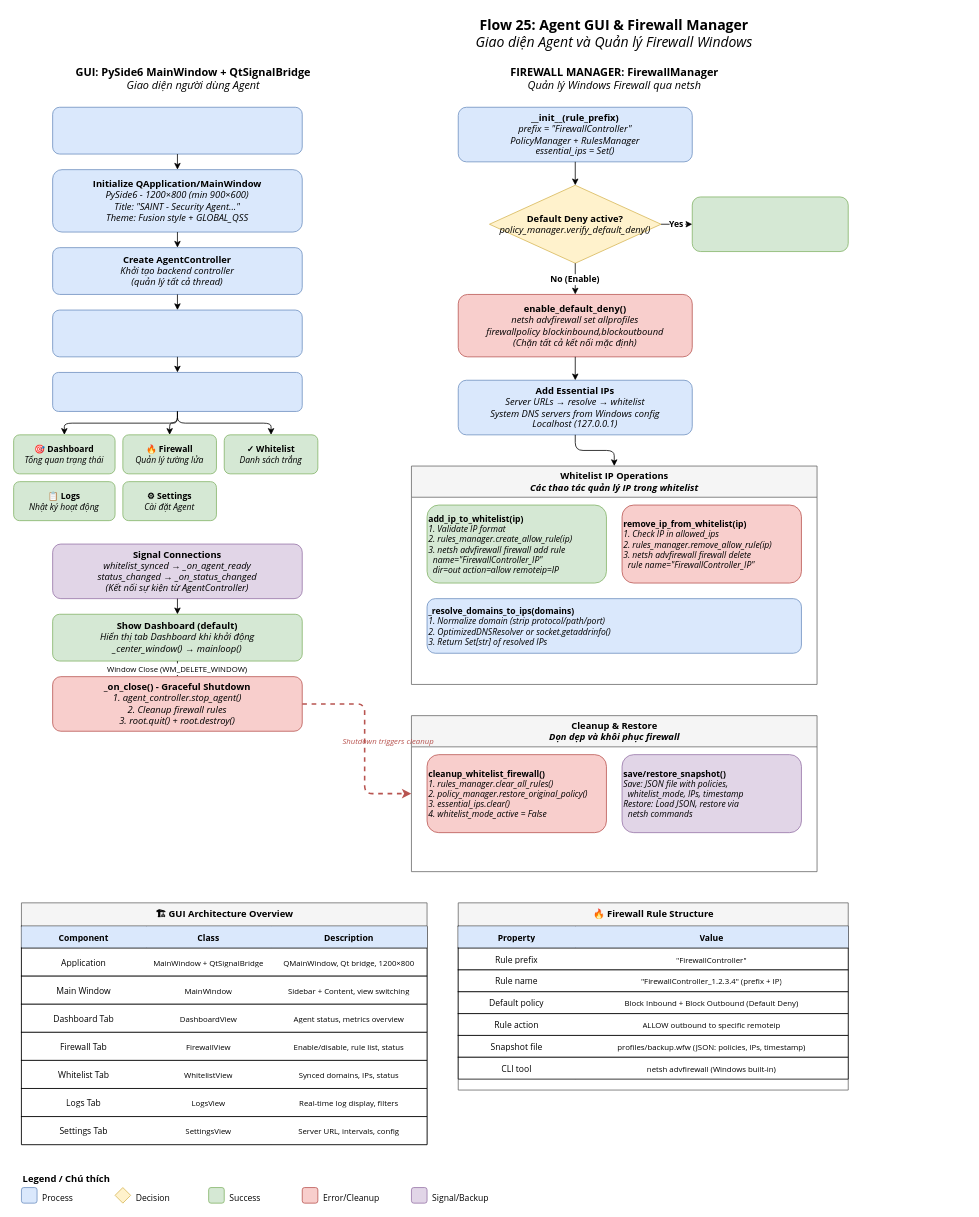
This 979x1217 diagram has some shape labels left out. The centre of each missing label's shape, as x and y in pixels:
Application Bootstrap gui_qt.app.run() tạo QApplication và MainWindow duy nhất: (177,130)
Create 5 Tab Views Tạo 5 tab chính của ứng dụng: (177,391)
Create MainWindow Sidebar + Content Area layout Grid: col0=sidebar, col1=content: (177,333)
Resume Whitelist Mode whitelist_mode_active = True Tiếp tục chế độ đã có: (769,224)
